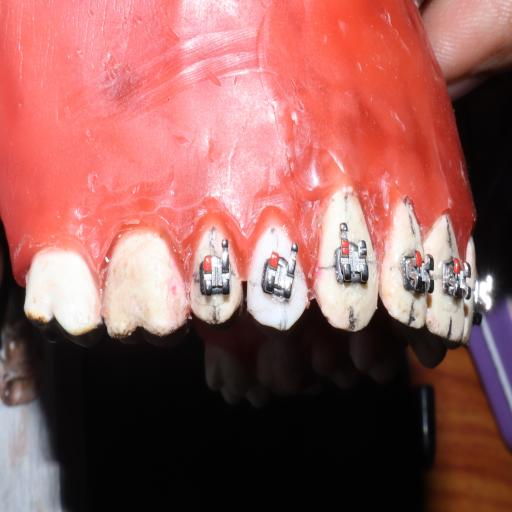correct_brace: (248, 219, 309, 332)
